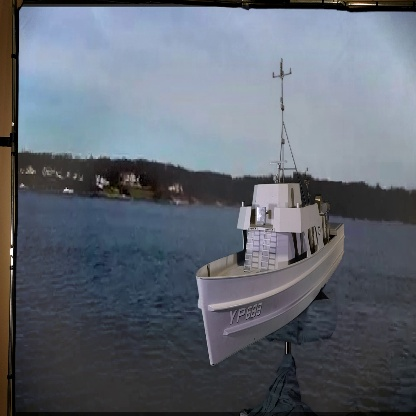YP689: (193, 73, 347, 365)
